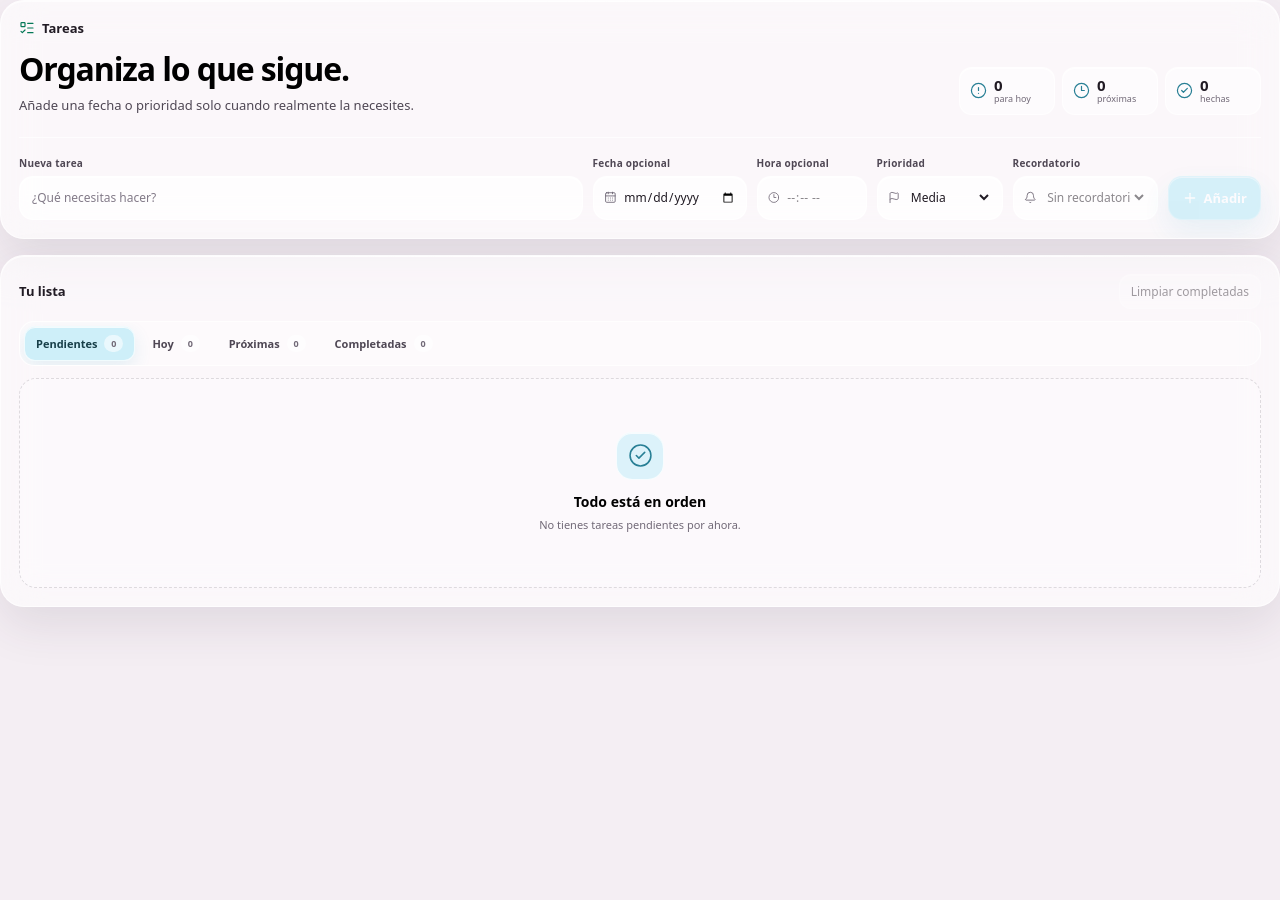
Scenario: Tareas › crea, completa y elimina una tarea compartida
Type "Comprar flores" into the field labelled "Nueva tarea" at [301, 198], box 19,176 -> 582,220
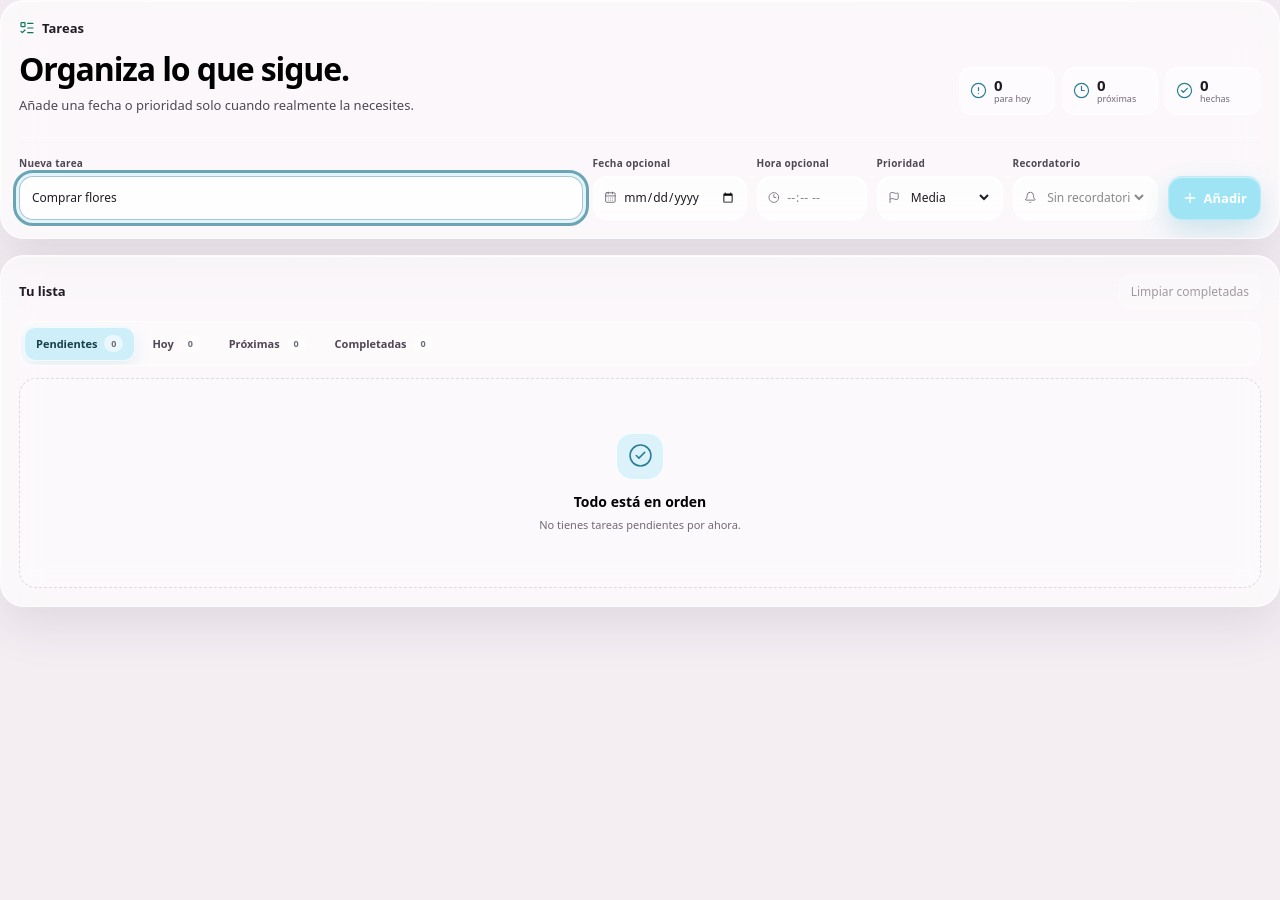
Select "Alta" in the dropdown labelled "Prioridad" at [949, 198], box 907,178 -> 992,217
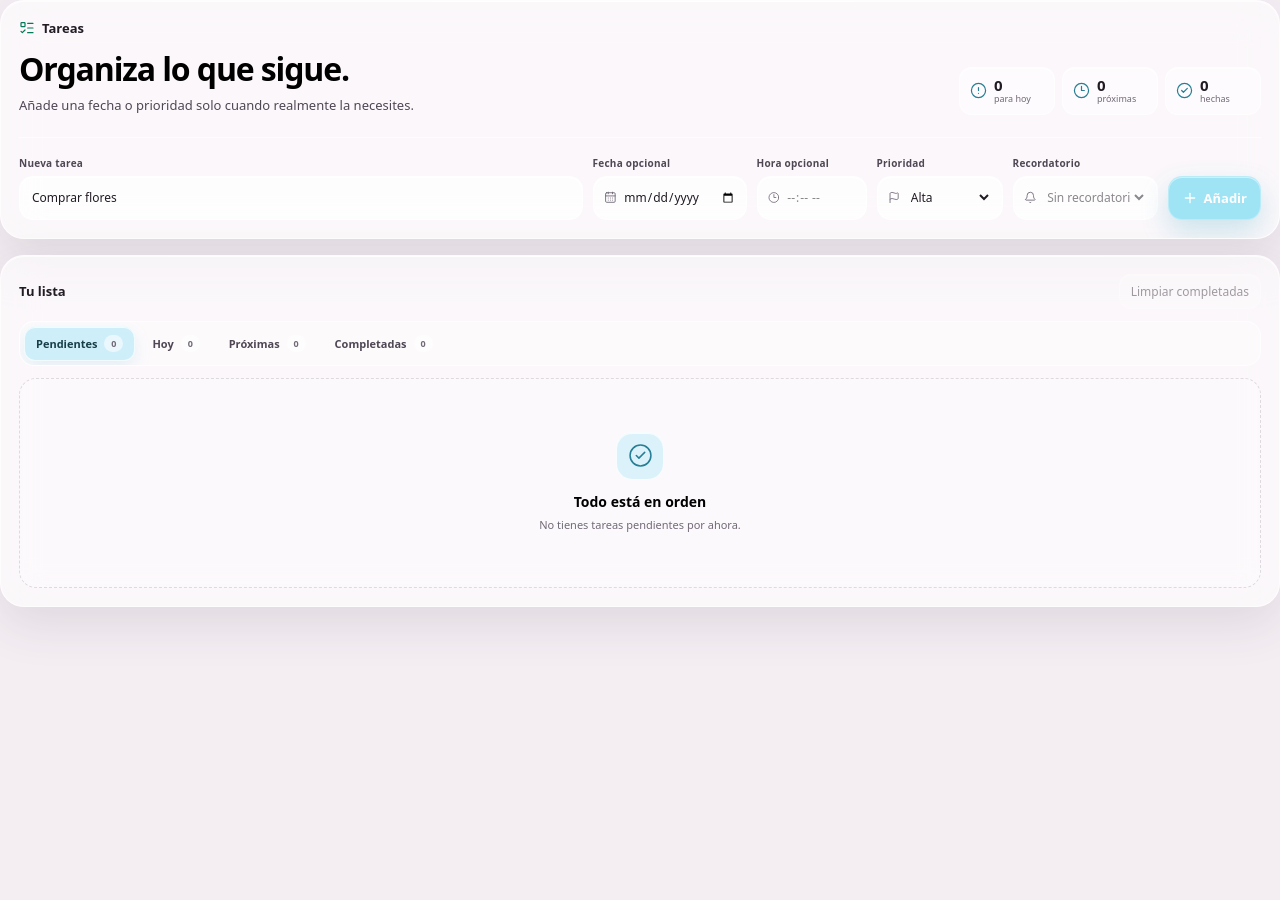
Click the button "Añadir" at [1214, 198], box 1168,176 -> 1261,220
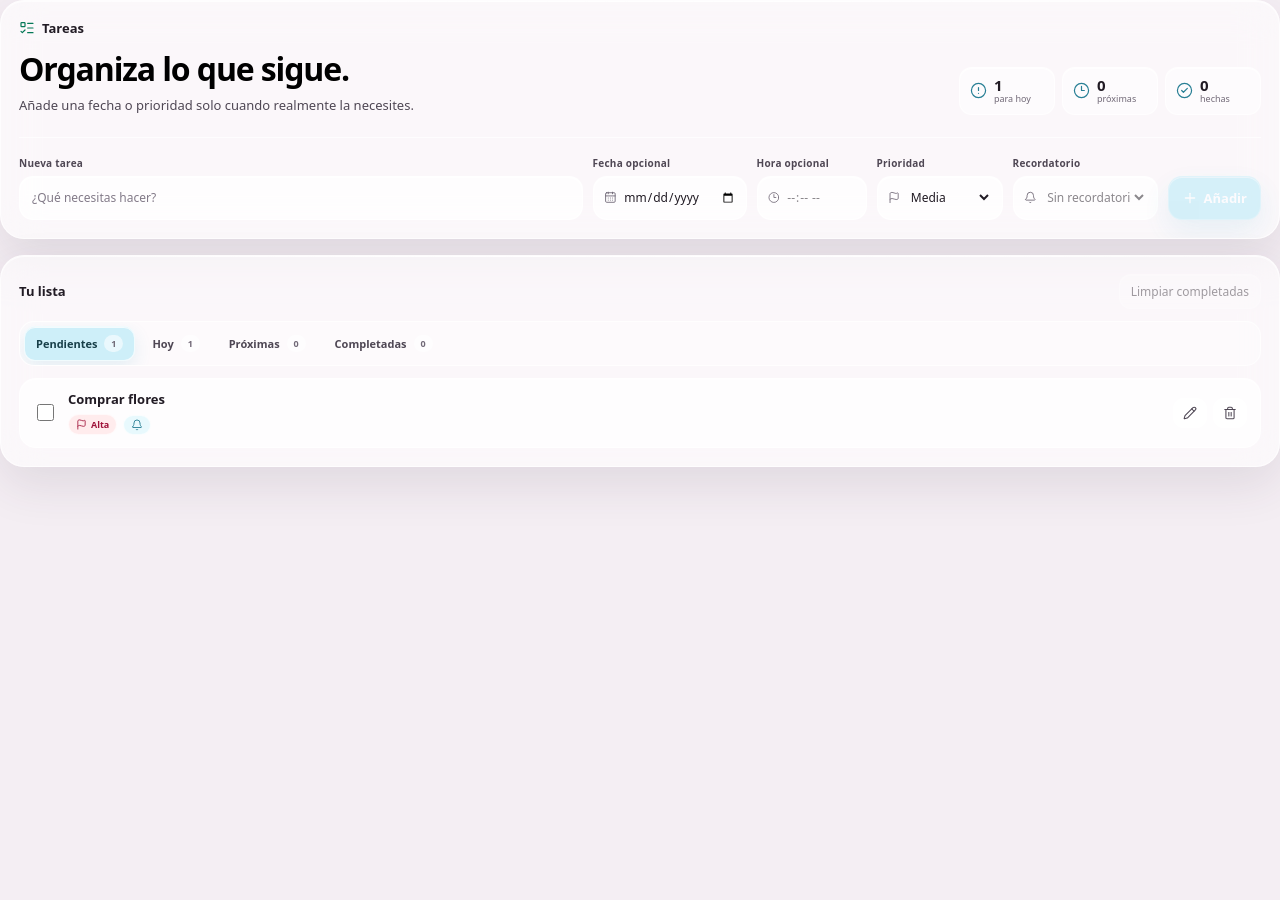
Now the text "Alta" is shown, box 68,414 -> 117,435
Click the checkbox named "Marcar Comprar flores" at [46, 413], box 37,404 -> 54,422
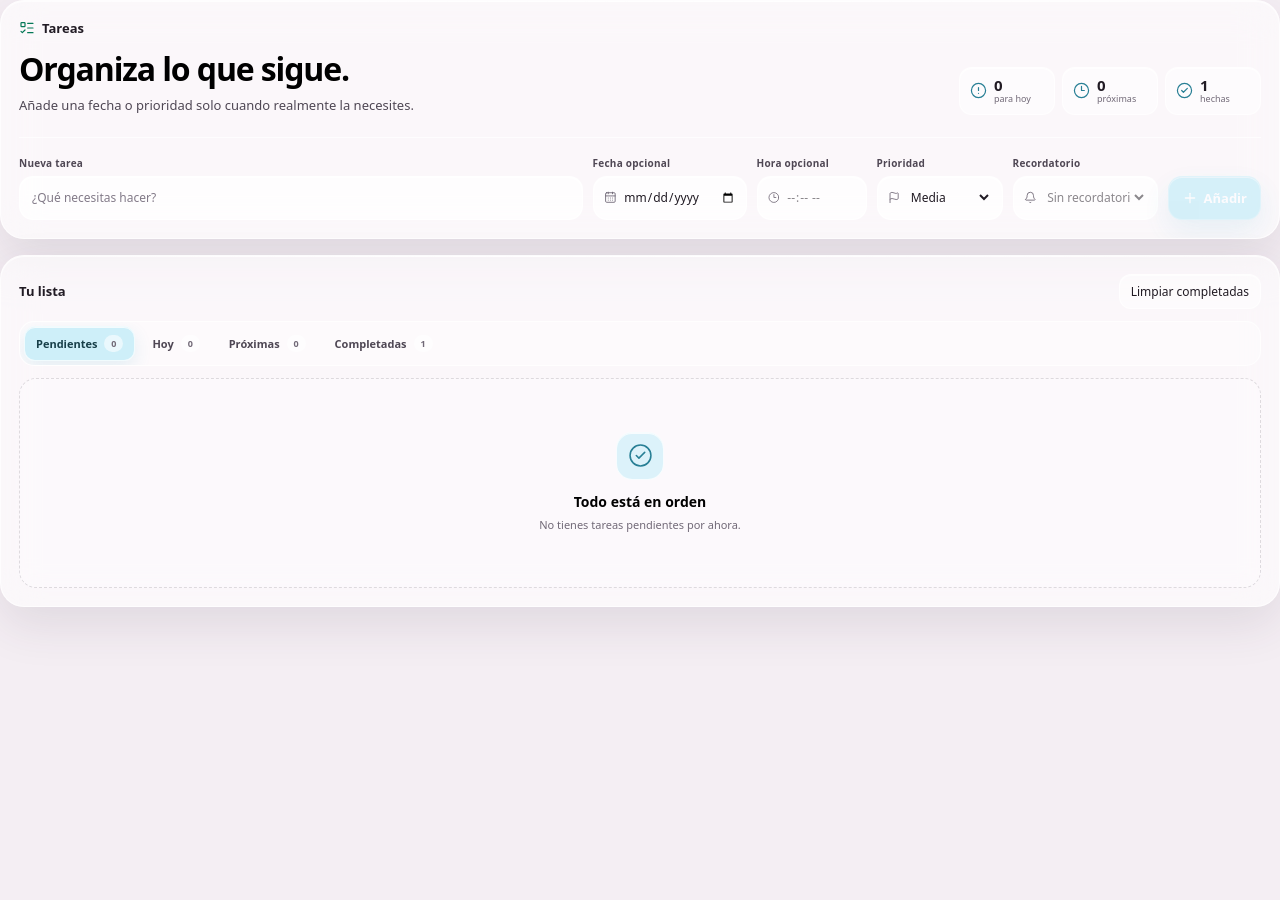
Click the tab "Completadas 1" at [384, 343], box 323,326 -> 444,361
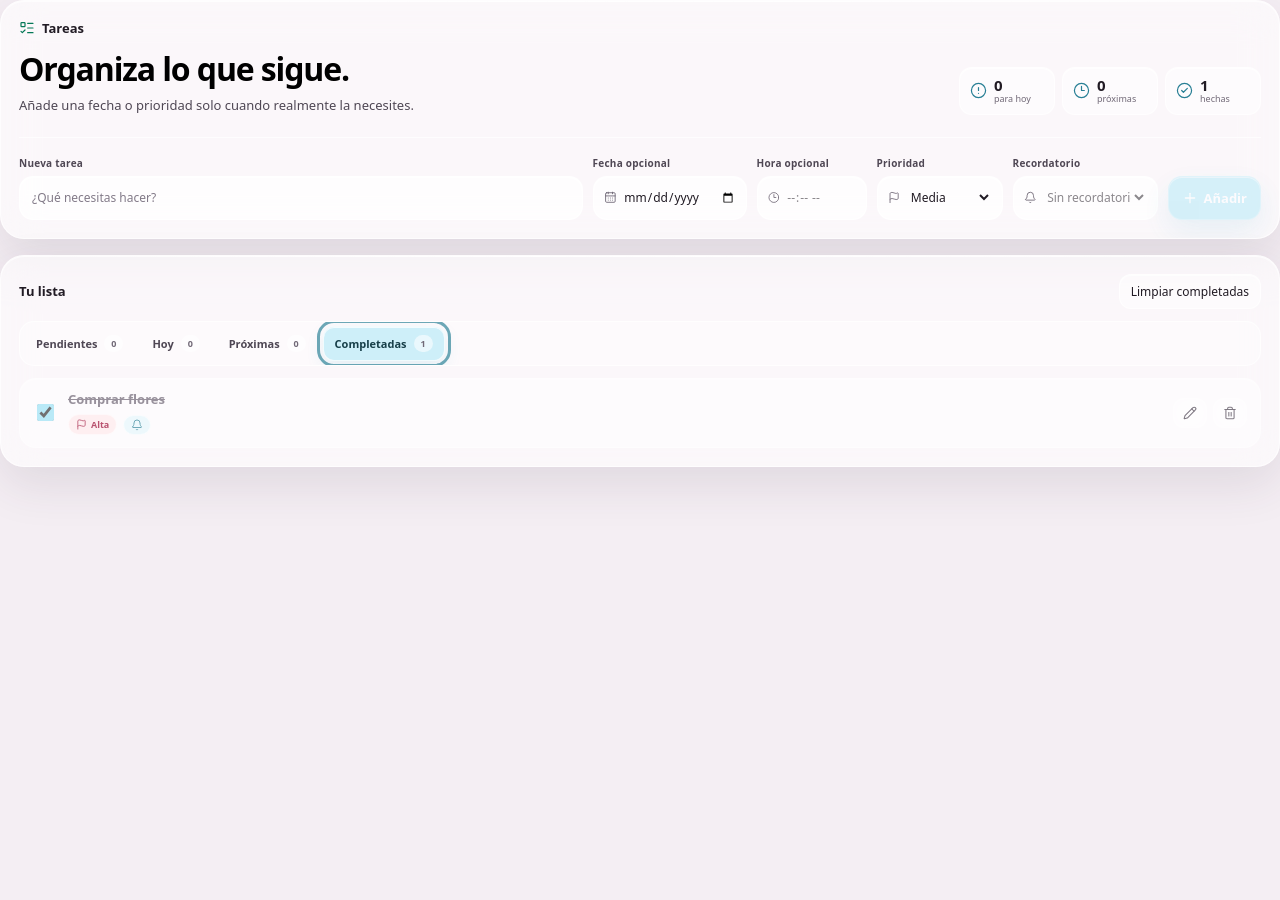
Now the checkbox named "Desmarcar Comprar flores" is checked, box 37,404 -> 54,422
Click the button named "Mover Comprar flores a la papelera" at [1230, 413], box 1213,398 -> 1247,428
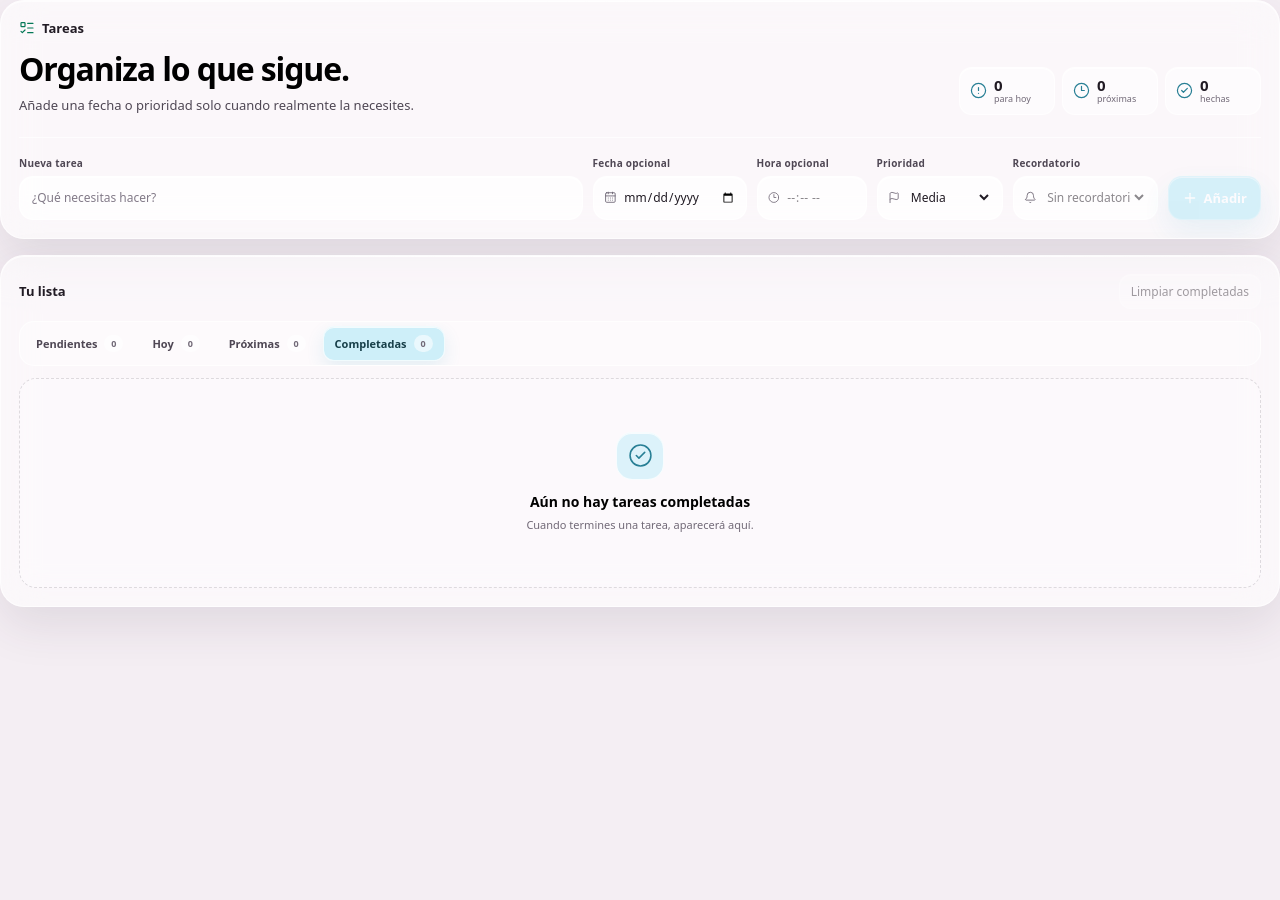
Now the text "Comprar flores" is gone
